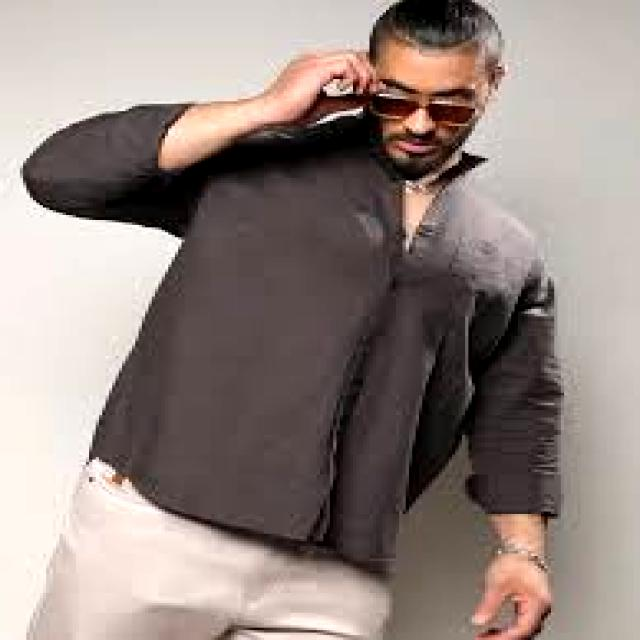face: (367, 40, 504, 180)
lower-wear: (27, 458, 392, 639)
top-wear: (24, 102, 564, 568)
